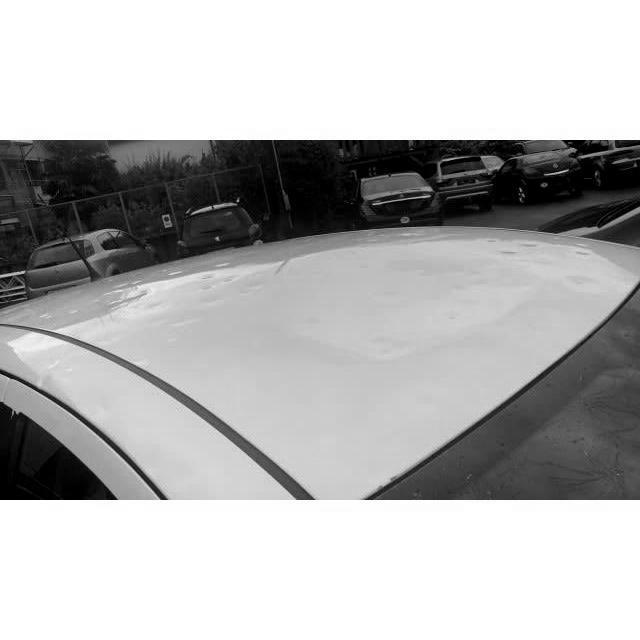roof-dent: (265, 240, 624, 489), (1, 276, 284, 484)
